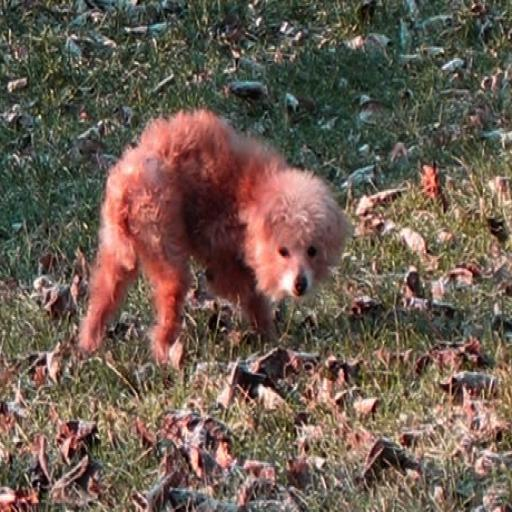dog_face: (261, 181, 338, 301)
